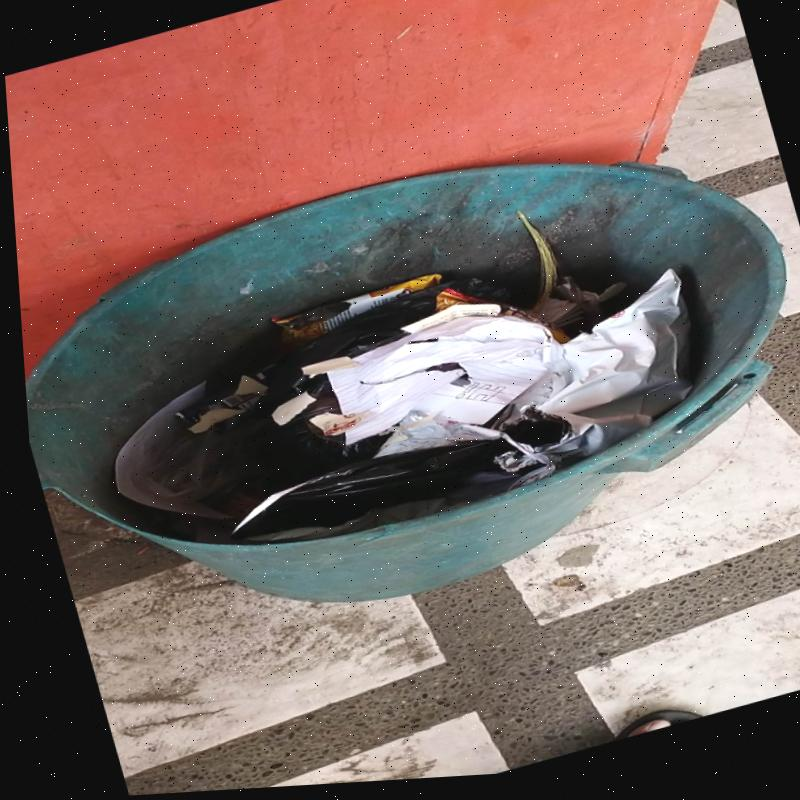food wrapper: (271, 274, 442, 351)
paper: (327, 316, 564, 446), (115, 381, 232, 520)
plastic bag: (504, 269, 694, 455)
